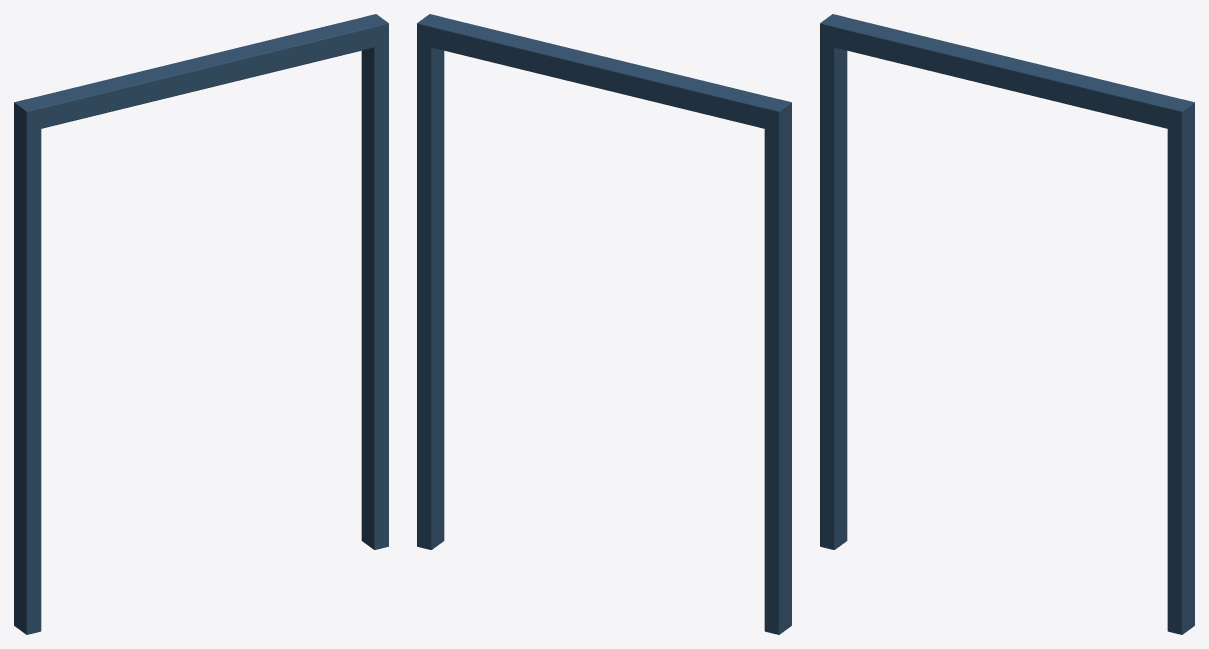
The model's file is SM_Replay_DockDoorOpen.fbx.
3 renders of one model, left to right at view 1: azimuth 30°, elevation 25°; view 2: azimuth 150°, elevation 25°; view 3: azimuth 330°, elevation 25°, orthographic.
Parts seen in each view (by area): view 1: SM_Replay_DockDoorOpen; view 2: SM_Replay_DockDoorOpen; view 3: SM_Replay_DockDoorOpen.
Part boxes in pixels (left/top/right/bottom): SM_Replay_DockDoorOpen: left=14, top=14, right=388, bottom=634; SM_Replay_DockDoorOpen: left=417, top=14, right=791, bottom=634; SM_Replay_DockDoorOpen: left=820, top=14, right=1194, bottom=634.
Bounding box in the file's own units: 304 × 18.77 × 420.
